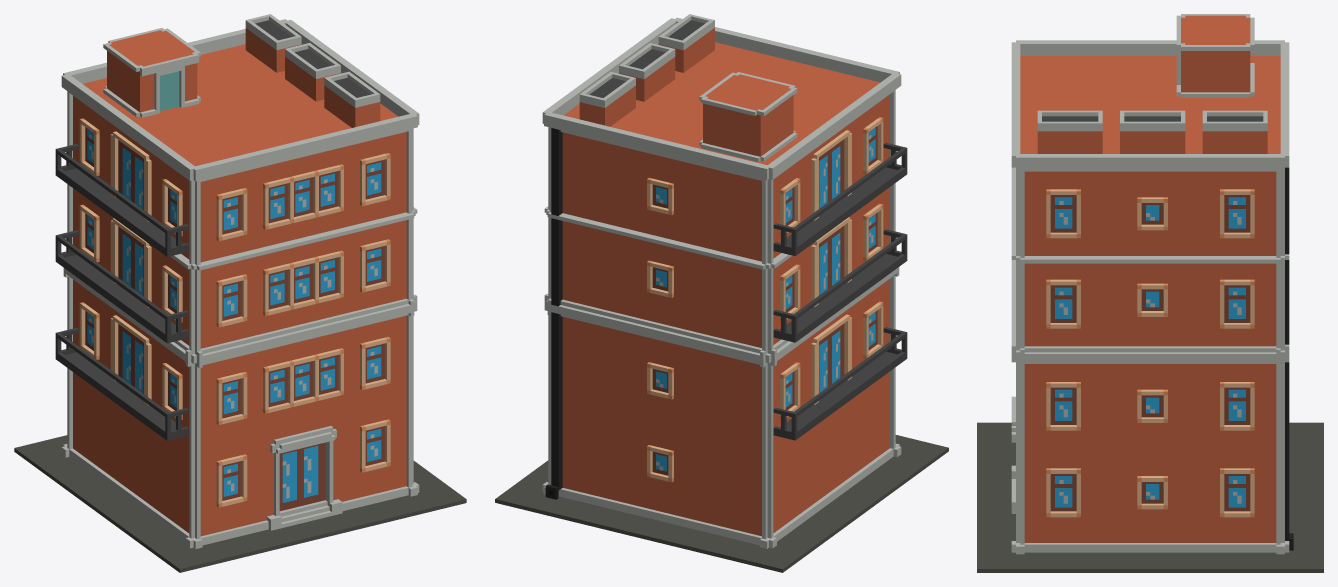
Rendered from Building.fbx.
3 renders of one model, left to right at view 1: azimuth 30°, elevation 25°; view 2: azimuth 150°, elevation 25°; view 3: azimuth 270°, elevation 25°, orthographic. The views are drawn at different scales.
Parts seen in each view (by area): view 1: Building; view 2: Building; view 3: Building.
Boxes of the visible parts, <box> form: Building: <box>14,14,466,572</box>; Building: <box>495,14,948,572</box>; Building: <box>977,14,1323,572</box>.
Size of the model in its own units: 800 by 1120 by 800.
